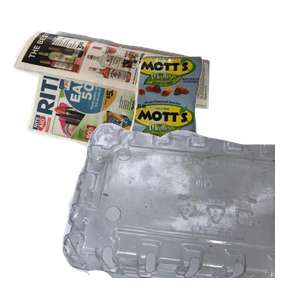glass: (73, 153, 284, 300)
paper: (11, 27, 213, 185)
plastic: (60, 120, 300, 300)
trash: (125, 53, 300, 201)
